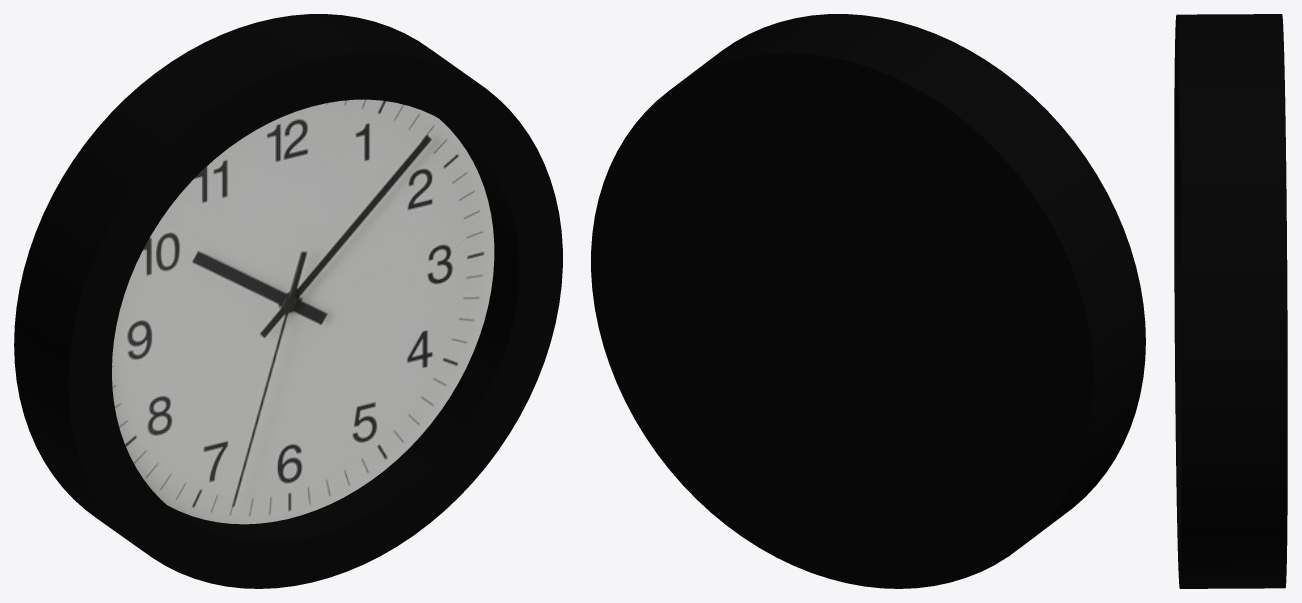
The model's file is 32 Wall clock.fbx.
3 renders of one model, left to right at view 1: azimuth 30°, elevation 25°; view 2: azimuth 150°, elevation 25°; view 3: azimuth 270°, elevation 25°, orthographic.
Parts seen in each view (by area): view 1: Object003, Cylinder001; view 2: Cylinder001; view 3: Cylinder001.
Part boxes in pixels (left/top/right/bottom): Object003: left=112, top=99, right=494, bottom=524; Cylinder001: left=14, top=14, right=562, bottom=588; Cylinder001: left=591, top=14, right=1145, bottom=588; Cylinder001: left=1174, top=14, right=1287, bottom=588.
Size of the model in its own units: 52.53 by 52.41 by 10.37.
Materials: 2 (1 with a texture image).
